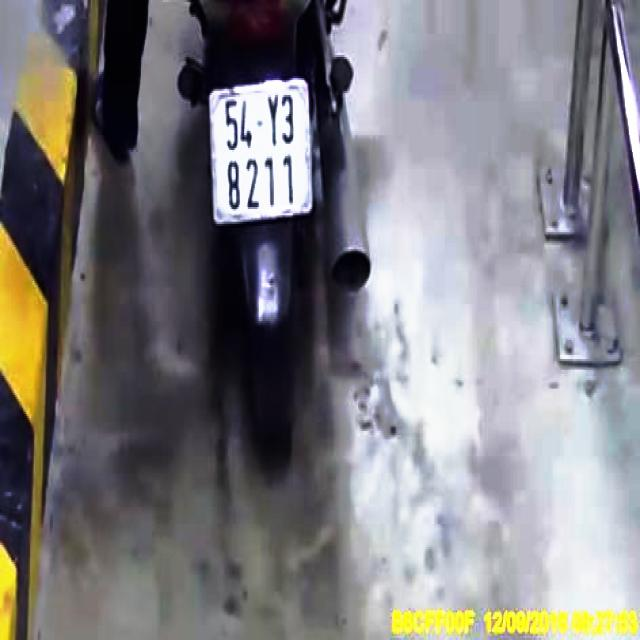license_plate: (212, 88, 310, 220)
